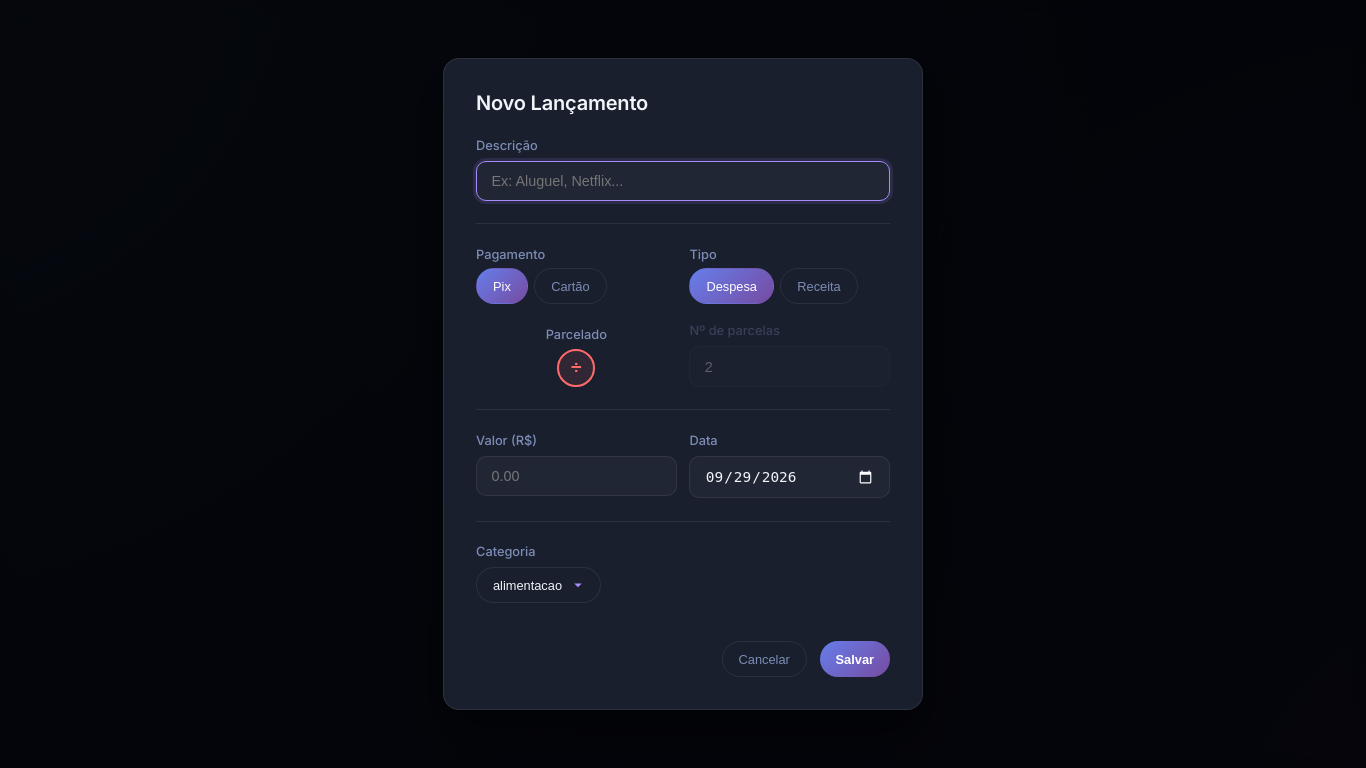
Test: AddTransaction - Value Mode Toggle › alterna para modo "Valor da parcela" e atualiza label
This screenshot has width=1366, height=768.
Step 1. Click the button named "Ativar parcelamento" → point(576, 368), box [557,349,595,387]
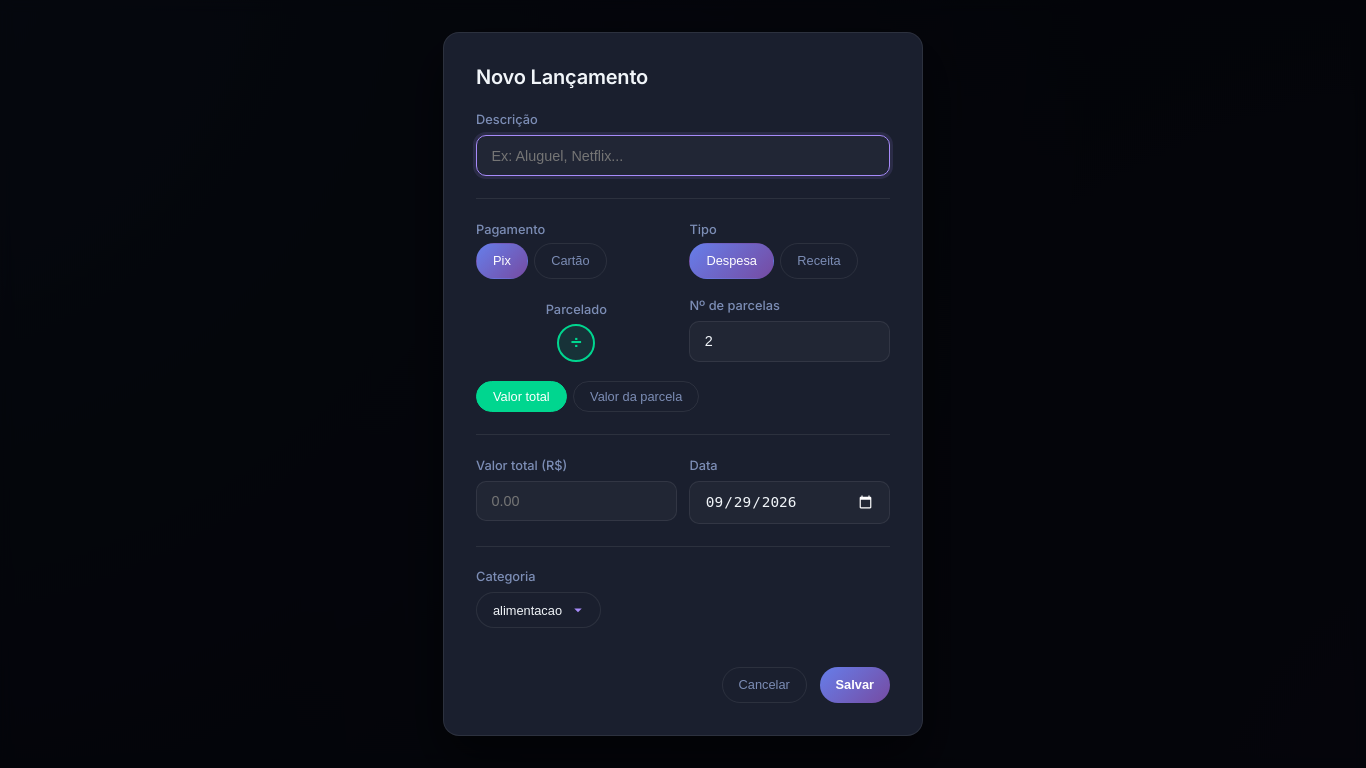
Step 2. Click the button "Valor da parcela" → point(636, 396), box [573,381,699,412]
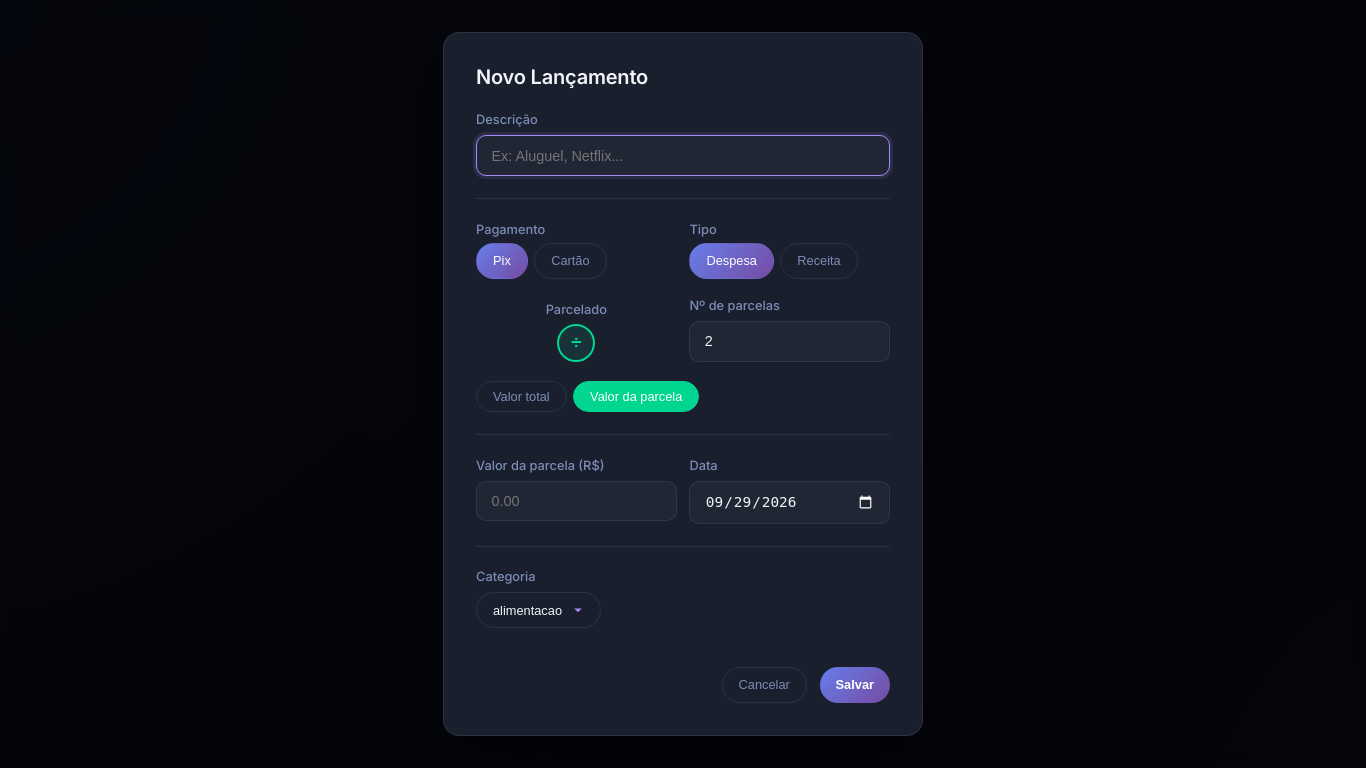
Expected: the text "Valor da parcela (R$)" is shown, [476,458,677,524]
